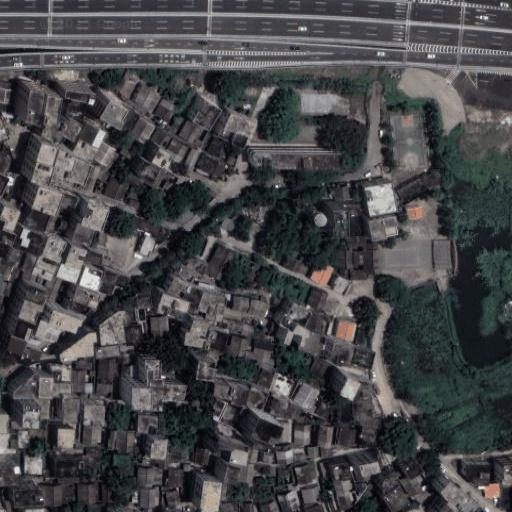building: (254, 151, 345, 172), (162, 196, 202, 236), (295, 88, 351, 116), (32, 238, 66, 284), (219, 112, 255, 149), (61, 332, 100, 362), (363, 181, 396, 216), (205, 243, 234, 282), (173, 245, 206, 277), (31, 186, 64, 217), (99, 310, 126, 347), (49, 151, 76, 188), (156, 293, 190, 322), (277, 248, 311, 276), (125, 210, 160, 237), (14, 226, 44, 257), (100, 99, 130, 130), (81, 200, 109, 233), (193, 99, 221, 132), (250, 415, 284, 442), (131, 81, 161, 111), (144, 166, 175, 194), (429, 234, 453, 270), (327, 340, 357, 367), (396, 176, 427, 202), (24, 90, 47, 125), (152, 93, 179, 121), (41, 93, 62, 128), (271, 371, 298, 398), (24, 207, 51, 234), (116, 70, 141, 99), (130, 116, 154, 146), (48, 310, 79, 333), (69, 156, 92, 187), (376, 470, 402, 497), (251, 339, 277, 366), (78, 264, 104, 291), (241, 263, 266, 291), (334, 478, 356, 509), (384, 486, 410, 512), (198, 291, 223, 318), (255, 363, 279, 391), (168, 279, 196, 303), (104, 176, 129, 202), (73, 286, 100, 310), (177, 119, 202, 144), (352, 347, 377, 372), (310, 261, 335, 286), (294, 382, 318, 408), (201, 480, 220, 512), (19, 299, 43, 324), (71, 223, 96, 247), (287, 302, 311, 326), (31, 161, 53, 187), (14, 373, 36, 398), (352, 400, 373, 426), (24, 284, 50, 305), (203, 328, 226, 351), (305, 289, 328, 312), (65, 246, 87, 270), (13, 489, 44, 506), (74, 140, 99, 161), (465, 463, 494, 481), (400, 474, 422, 497), (129, 155, 152, 177), (37, 143, 58, 167), (79, 122, 100, 146), (99, 270, 119, 295), (208, 399, 228, 424), (1, 207, 19, 234), (330, 460, 352, 482), (315, 401, 337, 423), (197, 153, 219, 175), (440, 480, 461, 503), (340, 377, 361, 400), (280, 314, 303, 335), (84, 161, 100, 191), (55, 459, 83, 476), (450, 490, 471, 512), (301, 484, 322, 506), (83, 405, 105, 426), (15, 319, 36, 341), (95, 143, 116, 165), (132, 388, 152, 411), (64, 120, 84, 143), (57, 265, 81, 284), (122, 110, 141, 134), (66, 90, 96, 105), (228, 335, 248, 357), (23, 454, 43, 476), (183, 330, 205, 350), (42, 125, 64, 145), (168, 139, 190, 159), (335, 320, 357, 340), (143, 139, 160, 164), (309, 358, 330, 378), (279, 490, 298, 512), (44, 484, 62, 507), (116, 430, 134, 453), (330, 206, 345, 233), (63, 398, 79, 423), (331, 275, 351, 295), (221, 405, 240, 426), (137, 415, 159, 433), (182, 148, 200, 170), (96, 344, 120, 360), (404, 460, 424, 479), (197, 361, 216, 381), (36, 400, 55, 420), (0, 467, 19, 487), (43, 324, 62, 344), (249, 299, 268, 319), (5, 248, 25, 267), (228, 387, 249, 405), (270, 397, 288, 418), (150, 438, 167, 460), (23, 406, 40, 428), (151, 131, 173, 148), (0, 217, 14, 243), (337, 427, 356, 446), (83, 426, 102, 445), (56, 429, 75, 448), (358, 425, 378, 443), (246, 391, 266, 409), (62, 484, 78, 506), (162, 385, 187, 399), (349, 236, 372, 251), (190, 319, 209, 337), (361, 460, 381, 477), (295, 465, 312, 485), (83, 450, 100, 470), (318, 425, 334, 446), (0, 83, 14, 107), (219, 309, 246, 321), (136, 467, 153, 486), (151, 318, 167, 338), (356, 251, 372, 271), (28, 428, 49, 443), (140, 235, 155, 256), (92, 129, 107, 150), (371, 218, 386, 239), (419, 486, 437, 503), (78, 485, 96, 502), (99, 361, 116, 379), (334, 187, 352, 204), (337, 248, 352, 268), (126, 327, 142, 345), (8, 336, 24, 354), (295, 425, 310, 444), (169, 469, 184, 488), (140, 488, 155, 507), (384, 215, 399, 234), (72, 372, 86, 392), (39, 378, 53, 398), (461, 499, 482, 512), (21, 476, 42, 489), (35, 318, 48, 339), (136, 292, 152, 309), (207, 137, 222, 155), (240, 464, 254, 483), (147, 360, 161, 379), (309, 313, 323, 332), (97, 382, 119, 394), (232, 295, 248, 311), (213, 384, 230, 399), (220, 216, 235, 232), (84, 251, 101, 265), (213, 160, 226, 178), (152, 388, 162, 411), (166, 490, 180, 506), (195, 449, 209, 465), (282, 330, 296, 346), (484, 484, 499, 498), (0, 174, 10, 195), (279, 422, 290, 441), (406, 206, 422, 219), (262, 500, 279, 512), (222, 500, 239, 512), (0, 415, 10, 435), (277, 451, 291, 464), (28, 349, 42, 362), (304, 503, 323, 512), (53, 383, 72, 392), (102, 485, 112, 502), (61, 366, 72, 380), (350, 271, 367, 280), (405, 504, 424, 512), (59, 476, 78, 484), (278, 469, 289, 482), (251, 448, 261, 462), (88, 505, 108, 512), (18, 432, 28, 446), (147, 379, 162, 388), (243, 501, 254, 512), (307, 446, 319, 456), (77, 361, 92, 369), (0, 118, 7, 135), (138, 308, 147, 321), (263, 453, 273, 464), (321, 448, 333, 457), (130, 365, 138, 378), (86, 383, 93, 394), (108, 438, 113, 449), (11, 421, 18, 428), (110, 430, 116, 438), (0, 456, 8, 462), (90, 369, 95, 378), (24, 510, 46, 512), (132, 497, 138, 503), (52, 366, 61, 370)
